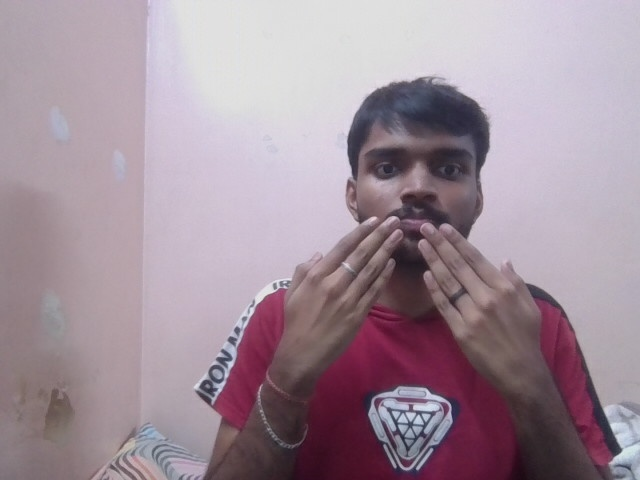Thank You: (284, 214, 554, 380)
